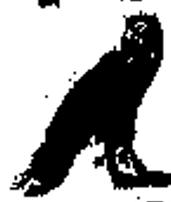Owl: (14, 10, 169, 201)
